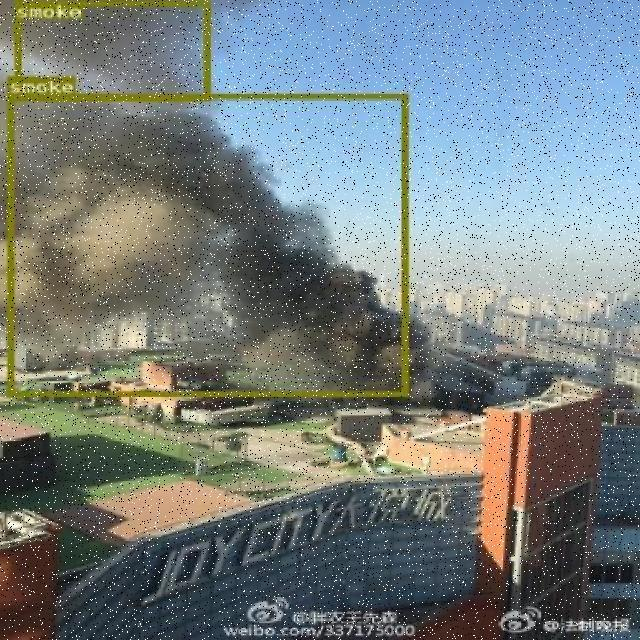Smoke: (3, 92, 398, 395), (13, 0, 209, 100)
